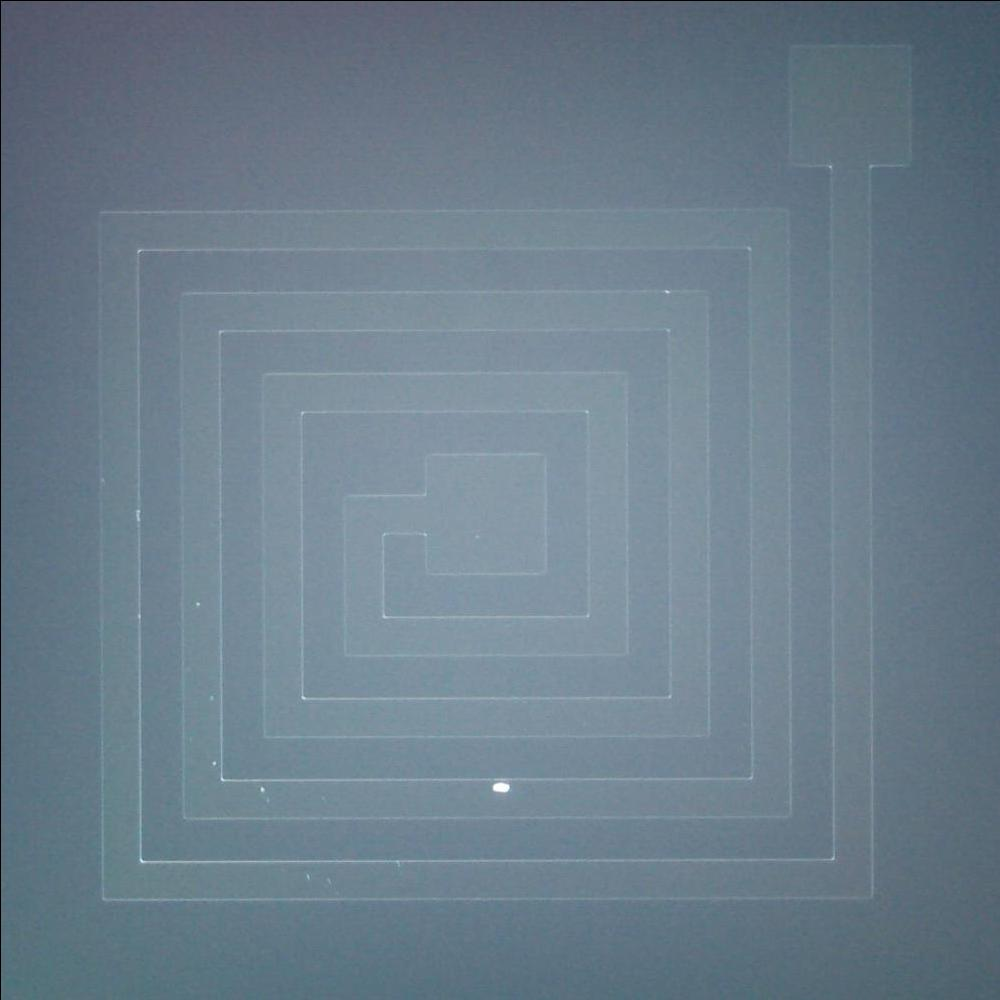dot: (185, 589, 215, 620), (197, 747, 223, 774)
spot: (482, 772, 516, 802)
